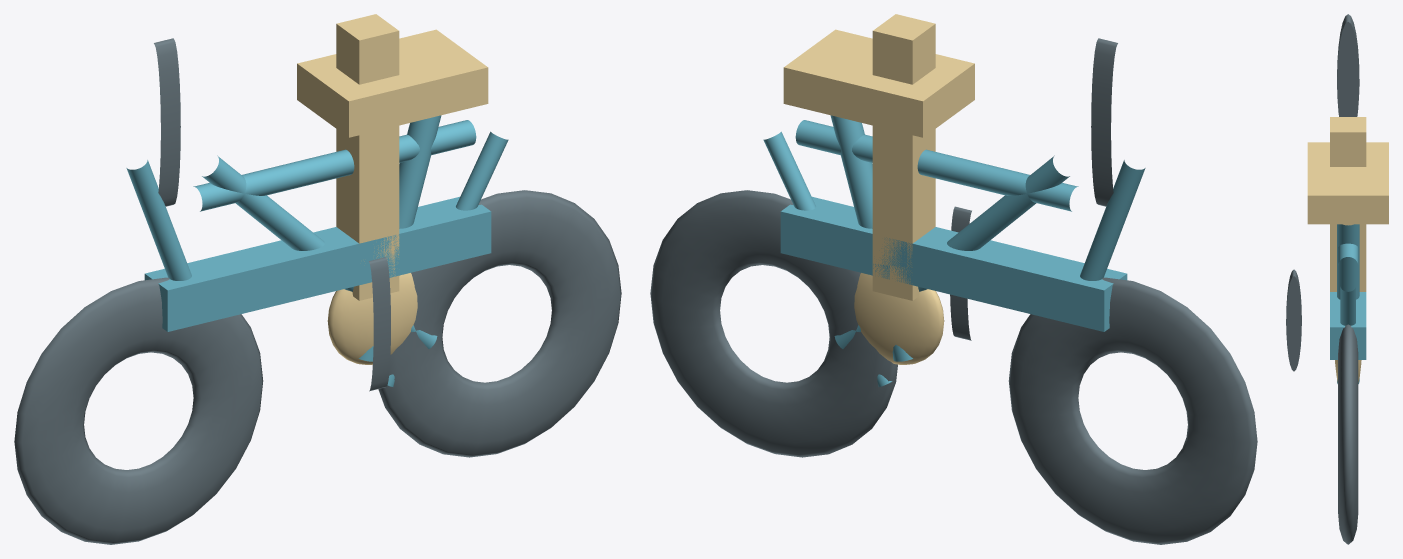
Rendered from bike.gltf.
3 renders of one model, left to right at view 1: azimuth 30°, elevation 25°; view 2: azimuth 150°, elevation 25°; view 3: azimuth 270°, elevation 25°, orthographic. The views are drawn at different scales.
Visible parts, largest first — view 1: wheel_front, wheel_rear, frame, seat, bar, top_tube, chain_guard, handlebar, down_tube, fork, seat_tube, pedal (+1 smaller); view 2: wheel_front, wheel_rear, frame, bar, seat, chain_guard, top_tube, handlebar, down_tube, fork, seat_tube, rear_stay (+1 smaller); view 3: seat, wheel_rear, bar, handlebar, frame, seat_tube, pedal, rear_stay, top_tube.
Part boxes in pixels (x1,y1,x2,y2): wheel_front: (14, 277, 263, 544); wheel_rear: (378, 190, 621, 457); frame: (144, 196, 491, 331); seat: (297, 29, 488, 137); bar: (336, 14, 399, 300); top_tube: (193, 120, 476, 211); chain_guard: (327, 273, 417, 364); handlebar: (154, 38, 180, 206); down_tube: (202, 155, 437, 348); fork: (126, 160, 191, 280); seat_tube: (359, 115, 441, 361); pedal: (369, 257, 390, 391); wheel_front: (1008, 277, 1257, 544); wheel_rear: (650, 190, 897, 457); frame: (780, 196, 1127, 331); bar: (872, 14, 935, 300); seat: (783, 29, 974, 137); chain_guard: (854, 273, 944, 364); top_tube: (795, 120, 1078, 211); handlebar: (1091, 38, 1117, 206); down_tube: (834, 155, 1069, 348); fork: (1080, 160, 1145, 280); seat_tube: (830, 115, 912, 361); rear_stay: (763, 131, 892, 386); seat: (1307, 142, 1388, 224); wheel_rear: (1338, 324, 1358, 544); bar: (1330, 117, 1366, 291); handlebar: (1337, 14, 1359, 116); frame: (1330, 292, 1366, 359); seat_tube: (1337, 224, 1359, 383); pedal: (1286, 269, 1301, 371); rear_stay: (1340, 287, 1355, 325); top_tube: (1338, 243, 1358, 264).
Size of the model in its own units: 1.22 by 0.95 by 0.2275.
